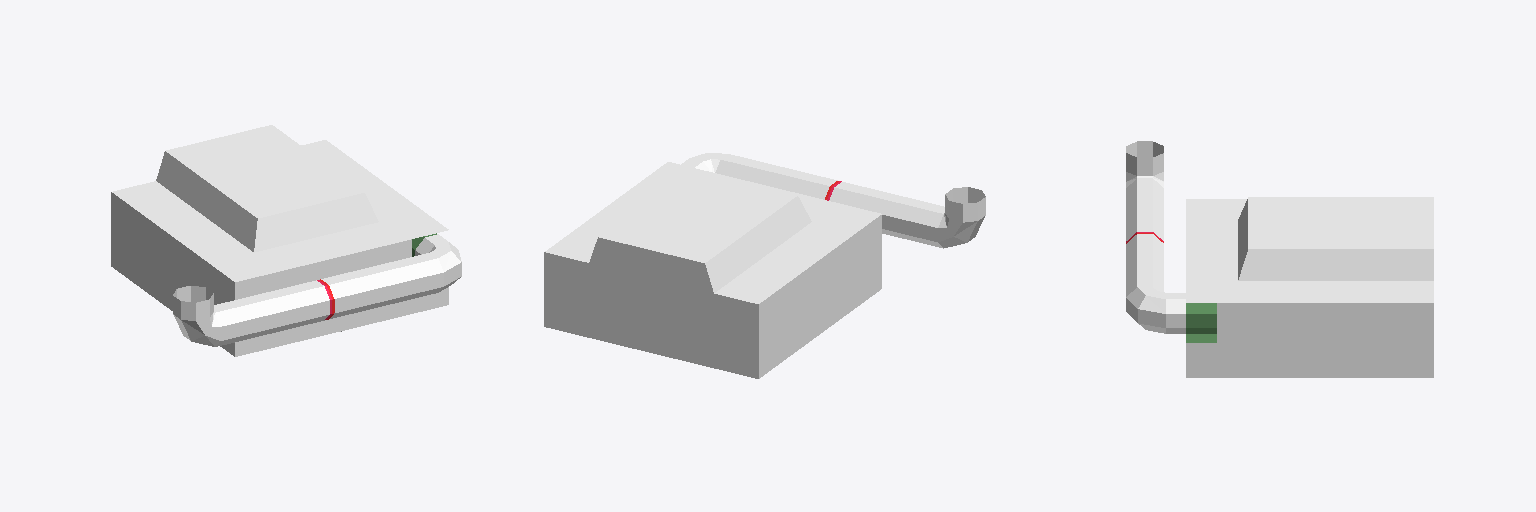
The model's file is Wet Dry World Area 2.obj.
3 renders of one model, left to right at view 1: azimuth 30°, elevation 25°; view 2: azimuth 150°, elevation 25°; view 3: azimuth 270°, elevation 25°, orthographic.
Bounding box in the file's own units: 16816 × 5732 × 15280.